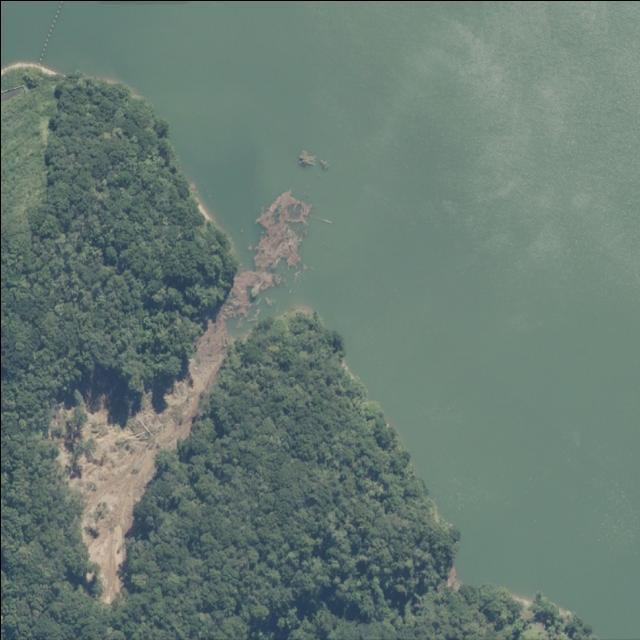landslide: (50, 191, 309, 603)
